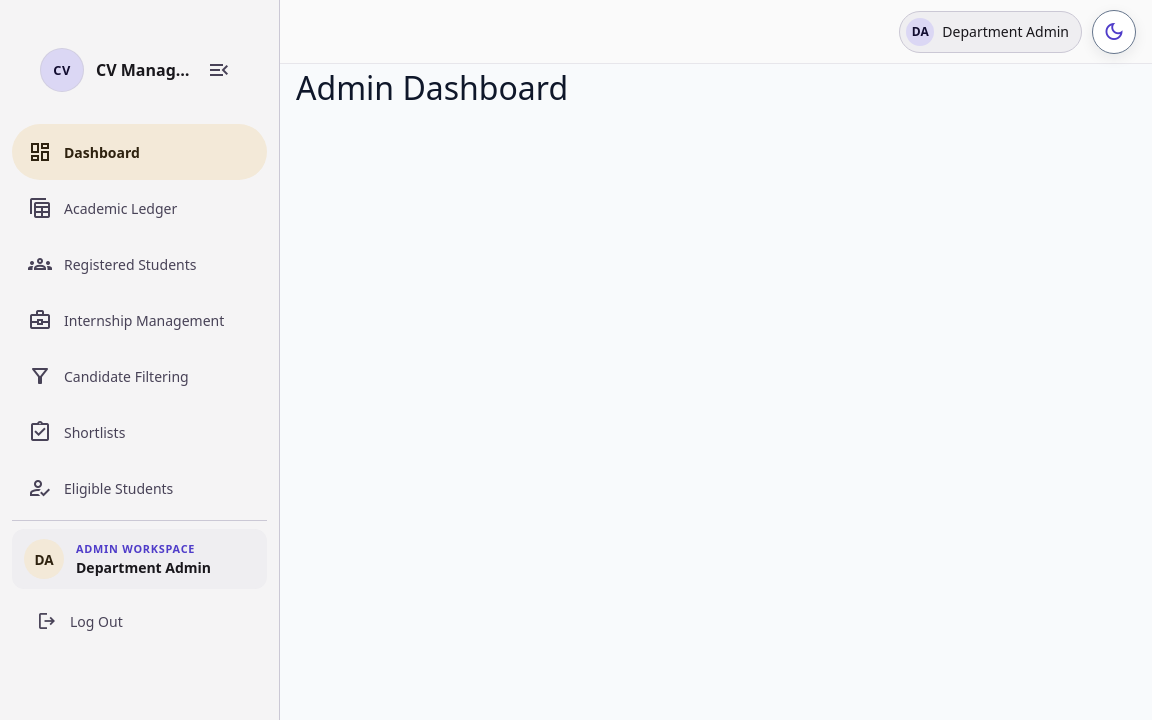
Test: AdminLayout › preserves the desktop collapsed state while Admin navigation remains usable
Step 1. Click the button named "Collapse navigation" → (219, 70), box [199,50,239,90]
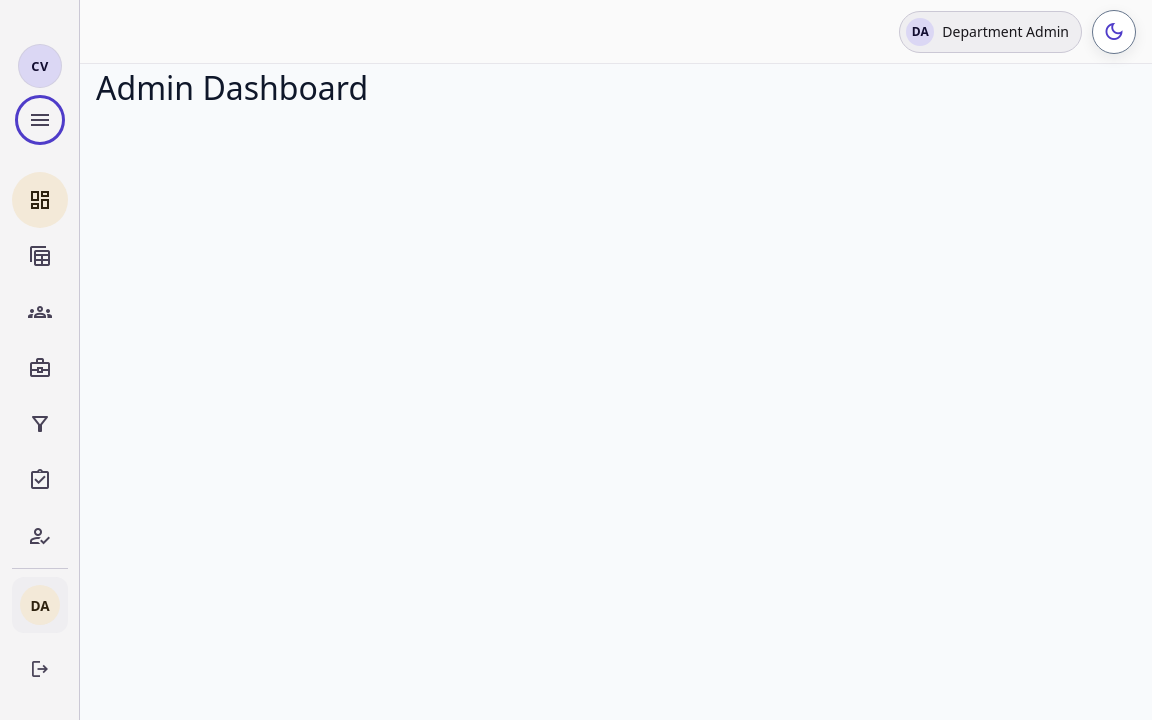
Expected: the element with class "m3-app-shell" has attribute data-drawer-expanded="false"
Step 2. Click the link named "Academic Ledger" → (40, 256), box [28,242,52,270]
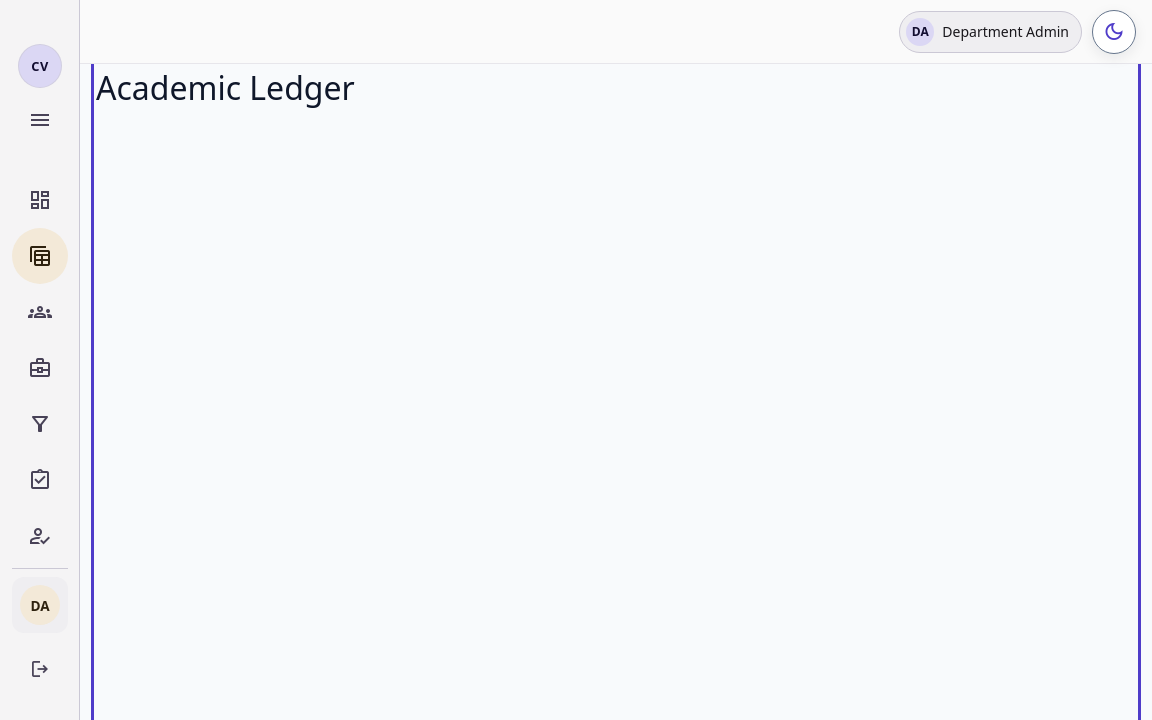
Expected: the button named "Expand navigation" is shown, [20,100,60,140]
Expected: the heading "Academic Ledger" is shown, [96,66,355,109]
